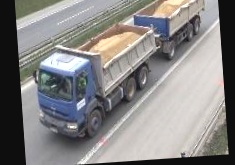truck: (29, 0, 214, 142)
